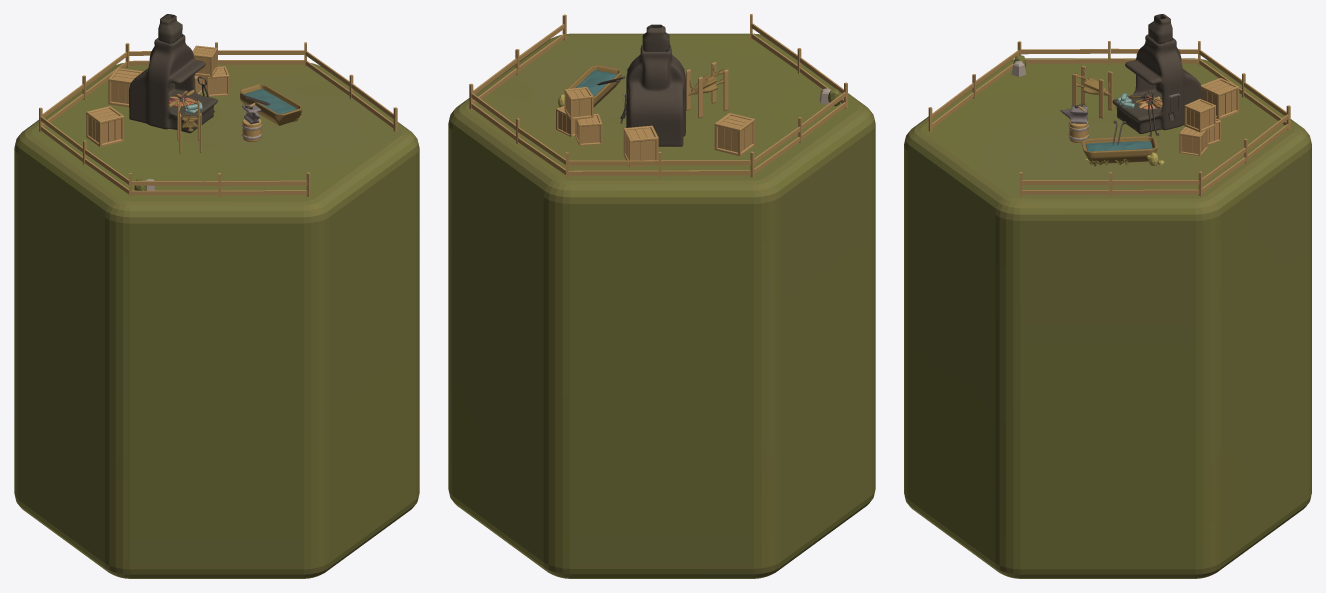
Rendered from Hex-forge1.glb.
The picture shows the model from 3 angles, left to right: view 1: azimuth 30°, elevation 25°; view 2: azimuth 150°, elevation 25°; view 3: azimuth 270°, elevation 25°; orthographic projection. The views are drawn at different scales.
Visible parts, largest first — view 1: Cylinder, Cube.081_Material.001_0, PM3D_Cube3D_2, Cube.086_Material.001_0, Cube.082_Material.001_0, water1, Cube.088_Material.001_0, AIR, PM3D_Cube3D1_2, water; view 2: Cylinder, Cube.081_Material.001_0, PM3D_Cube3D_2, Cube.086_Material.001_0, Cube.082_Material.001_0, Cube.088_Material.001_0, AIR, PM3D_Cube3D1_2, water1; view 3: Cylinder, Cube.081_Material.001_0, PM3D_Cube3D_2, Cube.086_Material.001_0, water1, Cube.088_Material.001_0, AIR, PM3D_Cube3D1_2, water.
Boxes of the visible parts, <box> form: Cylinder: <box>14,63,419,578</box>; Cube.081_Material.001_0: <box>39,42,397,197</box>; PM3D_Cube3D_2: <box>129,34,217,133</box>; Cube.086_Material.001_0: <box>192,45,229,96</box>; Cube.082_Material.001_0: <box>86,106,124,146</box>; water1: <box>240,84,301,125</box>; Cube.088_Material.001_0: <box>108,68,143,107</box>; AIR: <box>177,100,201,153</box>; PM3D_Cube3D1_2: <box>158,14,182,43</box>; water: <box>245,89,296,113</box>; Cylinder: <box>448,33,875,578</box>; Cube.081_Material.001_0: <box>469,14,847,177</box>; PM3D_Cube3D_2: <box>626,44,685,146</box>; Cube.086_Material.001_0: <box>556,87,602,145</box>; Cube.082_Material.001_0: <box>714,113,754,156</box>; Cube.088_Material.001_0: <box>623,125,658,167</box>; AIR: <box>686,62,728,118</box>; PM3D_Cube3D1_2: <box>642,24,669,51</box>; water1: <box>567,65,621,107</box>; Cylinder: <box>904,58,1311,578</box>; Cube.081_Material.001_0: <box>928,41,1290,196</box>; PM3D_Cube3D_2: <box>1112,34,1202,133</box>; Cube.086_Material.001_0: <box>1179,99,1220,155</box>; water1: <box>1081,136,1158,164</box>; Cube.088_Material.001_0: <box>1201,78,1239,119</box>; AIR: <box>1072,65,1112,118</box>; PM3D_Cube3D1_2: <box>1148,14,1172,43</box>; water: <box>1086,141,1152,151</box>.
Bounding box in the file's own units: 1.73 × 2.54 × 1.95.
5 materials, 5 textured.
